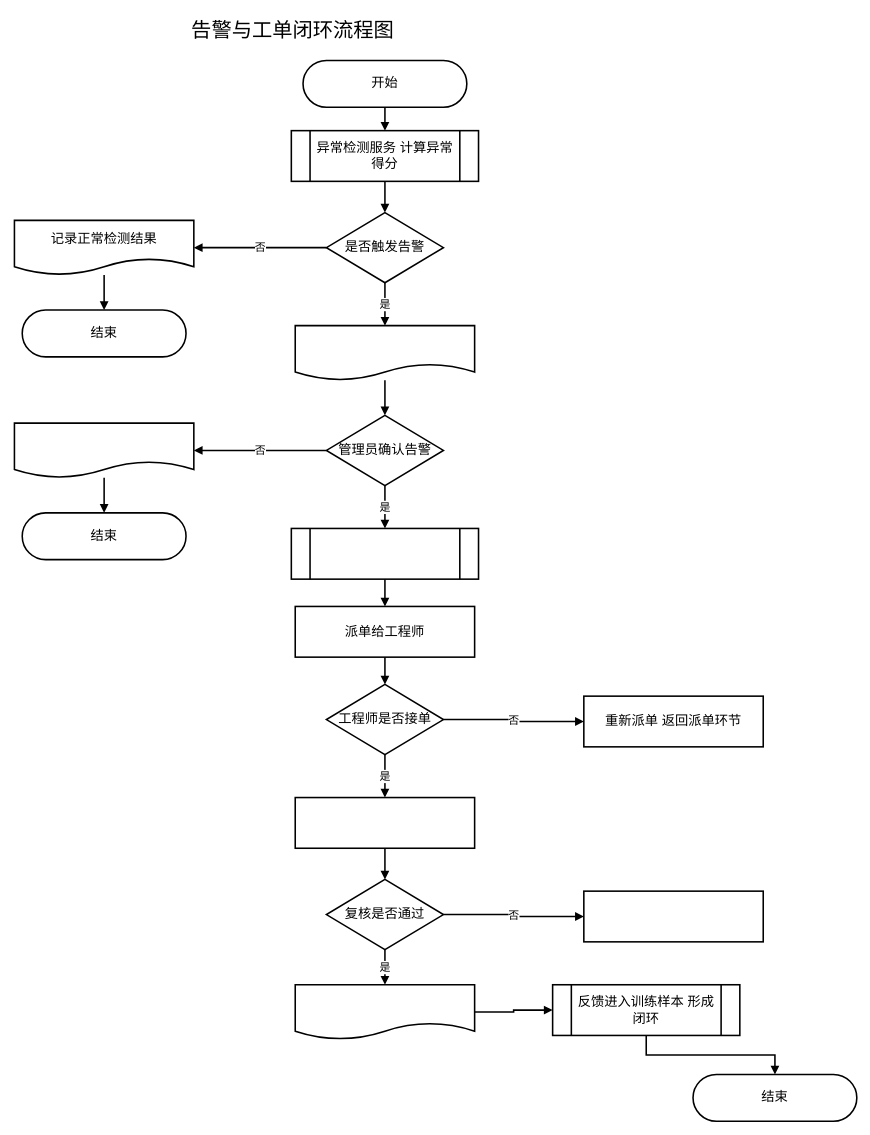
Some shapes in this 870 by 1135 pixel diagram are drawn without their labels. Here are the shapes that lost their labels. From the top down, the box of each, then its label:
(294, 324, 475, 381): 生成告警事件
(13, 422, 194, 478): 标记为误报 沉淀反馈样本
(290, 527, 479, 580): 创建工单
(294, 796, 475, 849): 现场处理并填写结果
(583, 890, 764, 942): 退回继续处理 返回现场处理
(294, 984, 475, 1040): 关闭工单 更新告警状态
